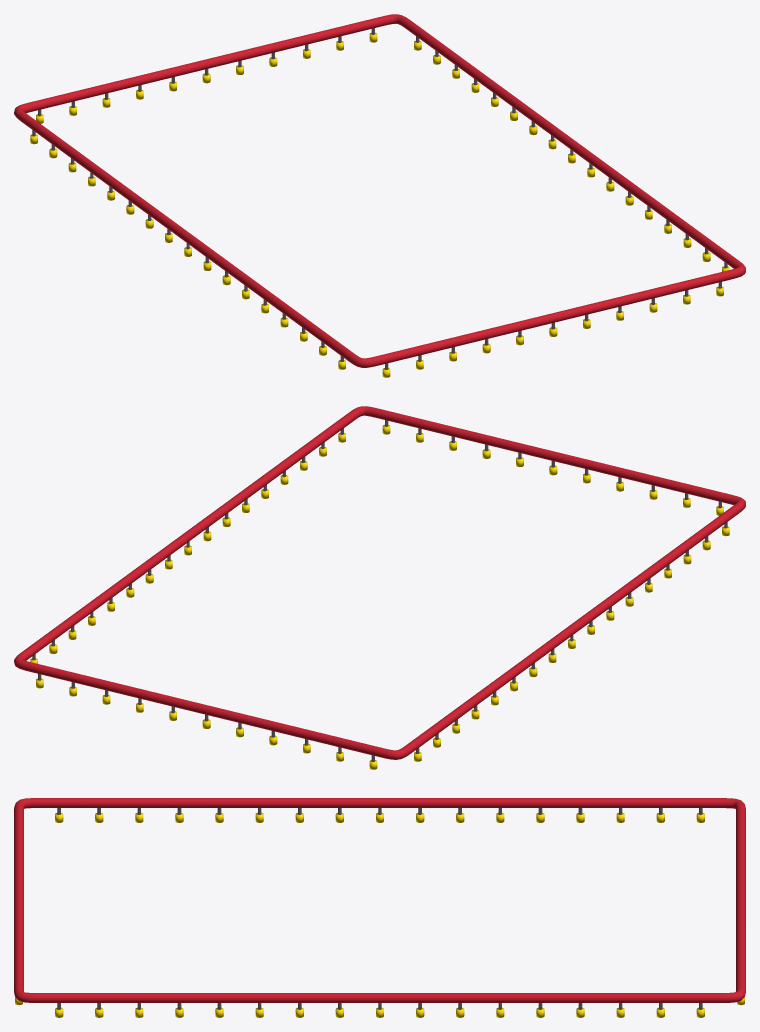
File: OuterWalls.fbx
3 views of the same model, one above another, from view 1: azimuth 30°, elevation 25°; view 2: azimuth 150°, elevation 25°; view 3: azimuth 270°, elevation 25° (orthographic). The views are drawn at different scales.
Visible parts, largest first — view 1: OuterWalls; view 2: OuterWalls; view 3: OuterWalls.
Part boxes in pixels (x1,y1,x2,y2): OuterWalls: [14, 14, 745, 377]; OuterWalls: [14, 406, 745, 769]; OuterWalls: [14, 798, 745, 1017].
Size of the model in its own units: 47 by 73 by 2.5.
